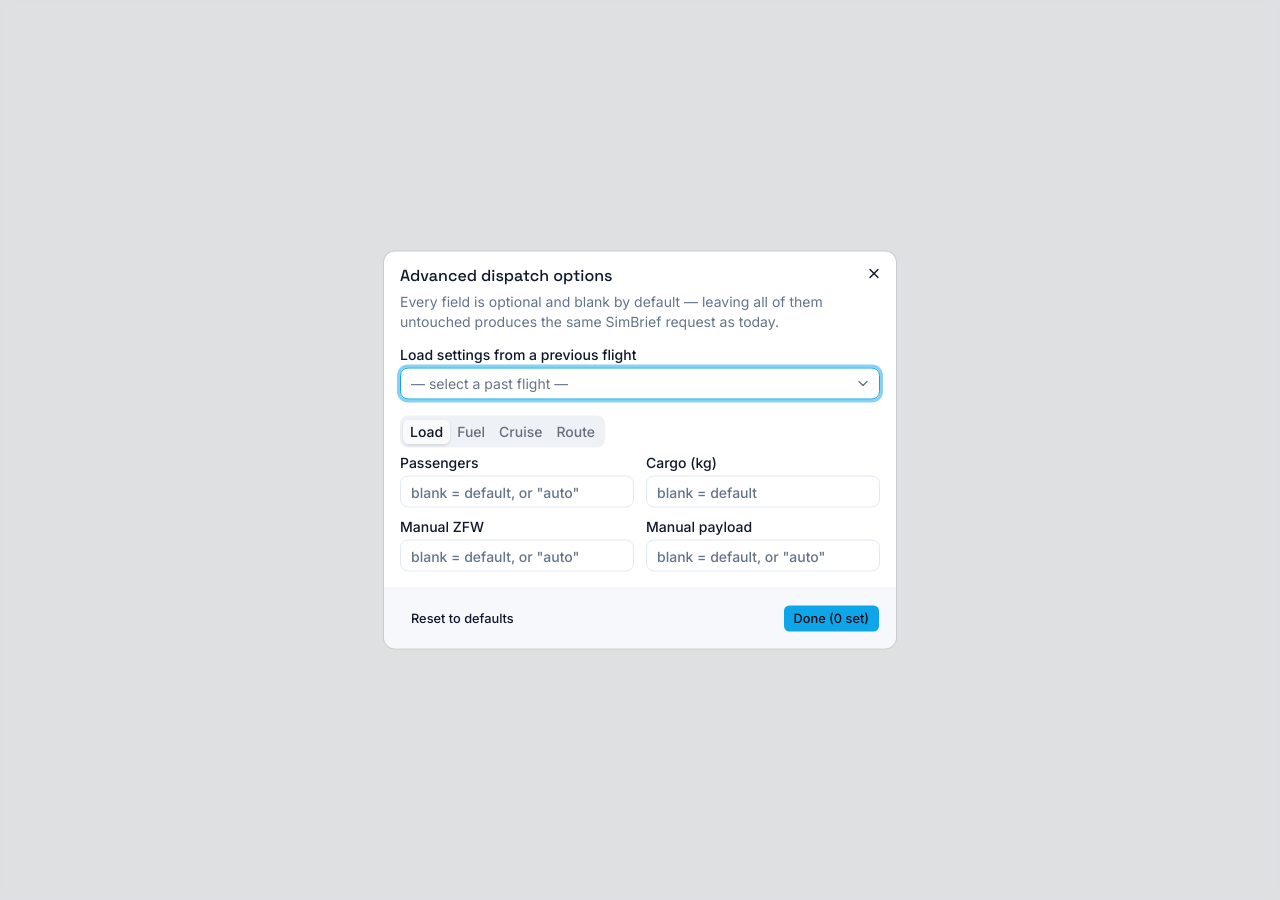
Test: DispatchAdvancedDialog › labels a loadable flight by its flight number, or dep→arr when none is set
The width and height of the screenshot is (1280, 900).
Click the dropdown at (490, 383), box [400,368,880,400]
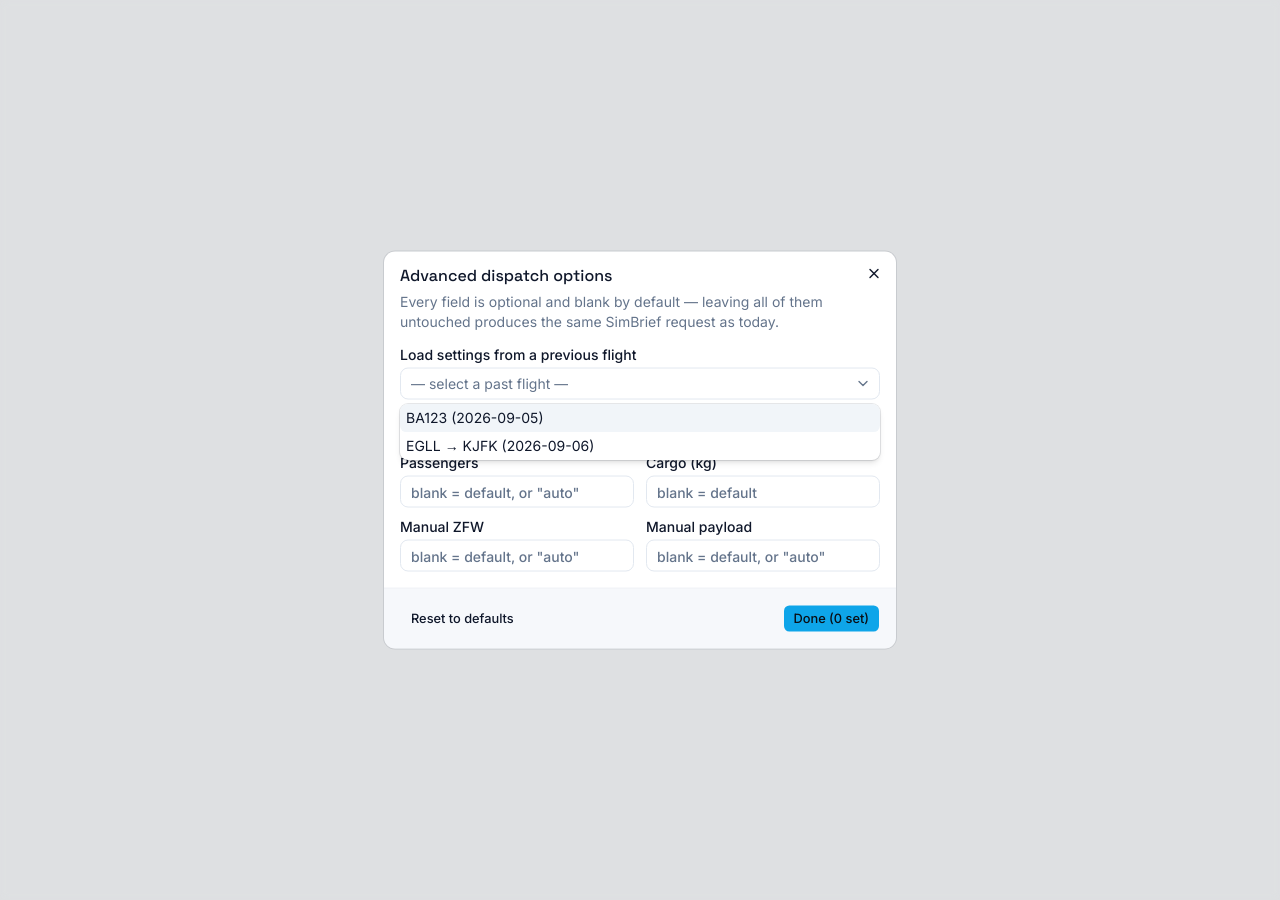
Now the text "BA123 (2026-09-05)" is shown, box [406,408,544,428]
Now the text "EGLL → KJFK (2026-09-06)" is shown, box [406,436,594,456]
